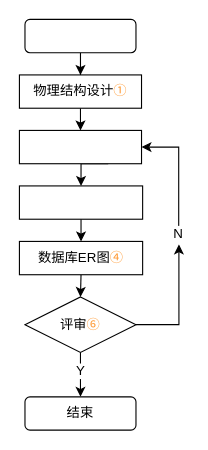
Image size: 208x450. Some labels were removed from this diagram. Each missing label, with the box of its shape:
开始: (24, 18, 136, 53)
系统用例 ③: (18, 185, 143, 219)
逻辑结构设计 ②: (18, 129, 142, 164)
